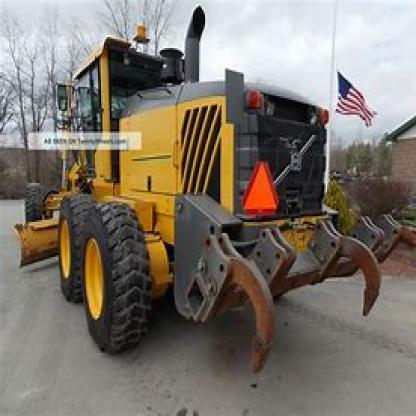bull_dozer/loader/grader: (12, 22, 362, 357)
